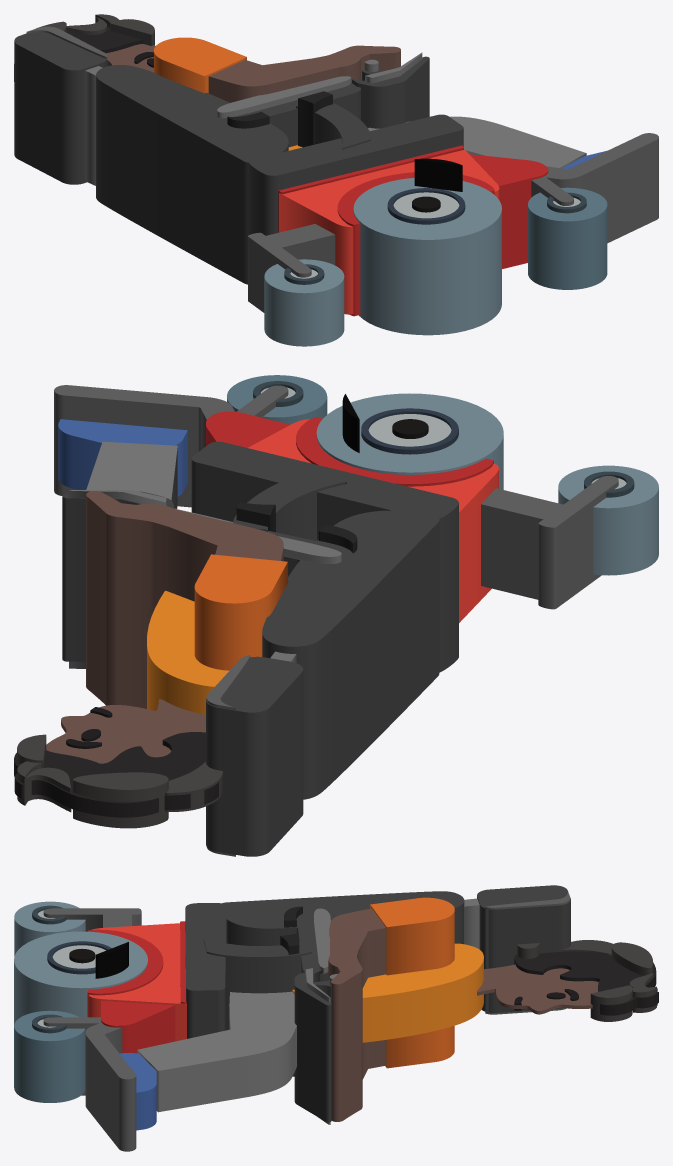
Rendered from emoji_u1f9d1_1f3ff_200d_1f9bc_200d_27a1.glb.
3 views of the same model, one above another, from view 1: azimuth 30°, elevation 25°; view 2: azimuth 150°, elevation 25°; view 3: azimuth 270°, elevation 25° (orthographic). The views are drawn at different scales.
Visible parts, largest first — view 1: emoji_u1f9d1_1f3ff_200d_1f9bc_200d_27a1; view 2: emoji_u1f9d1_1f3ff_200d_1f9bc_200d_27a1; view 3: emoji_u1f9d1_1f3ff_200d_1f9bc_200d_27a1.
Part boxes in pixels (bbox=[...]): emoji_u1f9d1_1f3ff_200d_1f9bc_200d_27a1: bbox=[14, 14, 658, 346]; emoji_u1f9d1_1f3ff_200d_1f9bc_200d_27a1: bbox=[14, 375, 658, 856]; emoji_u1f9d1_1f3ff_200d_1f9bc_200d_27a1: bbox=[14, 885, 658, 1151].
Size of the model in its own units: 0.0236 by 0.0082 by 0.034.
